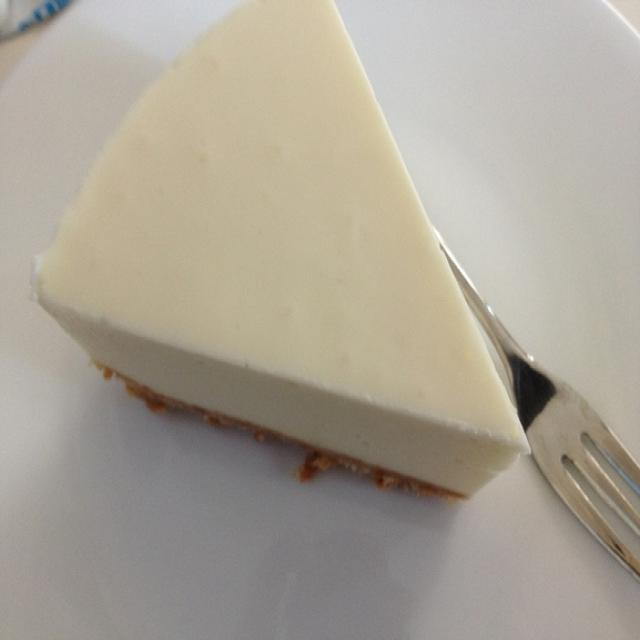蛋糕甜品: (13, 14, 616, 608)
